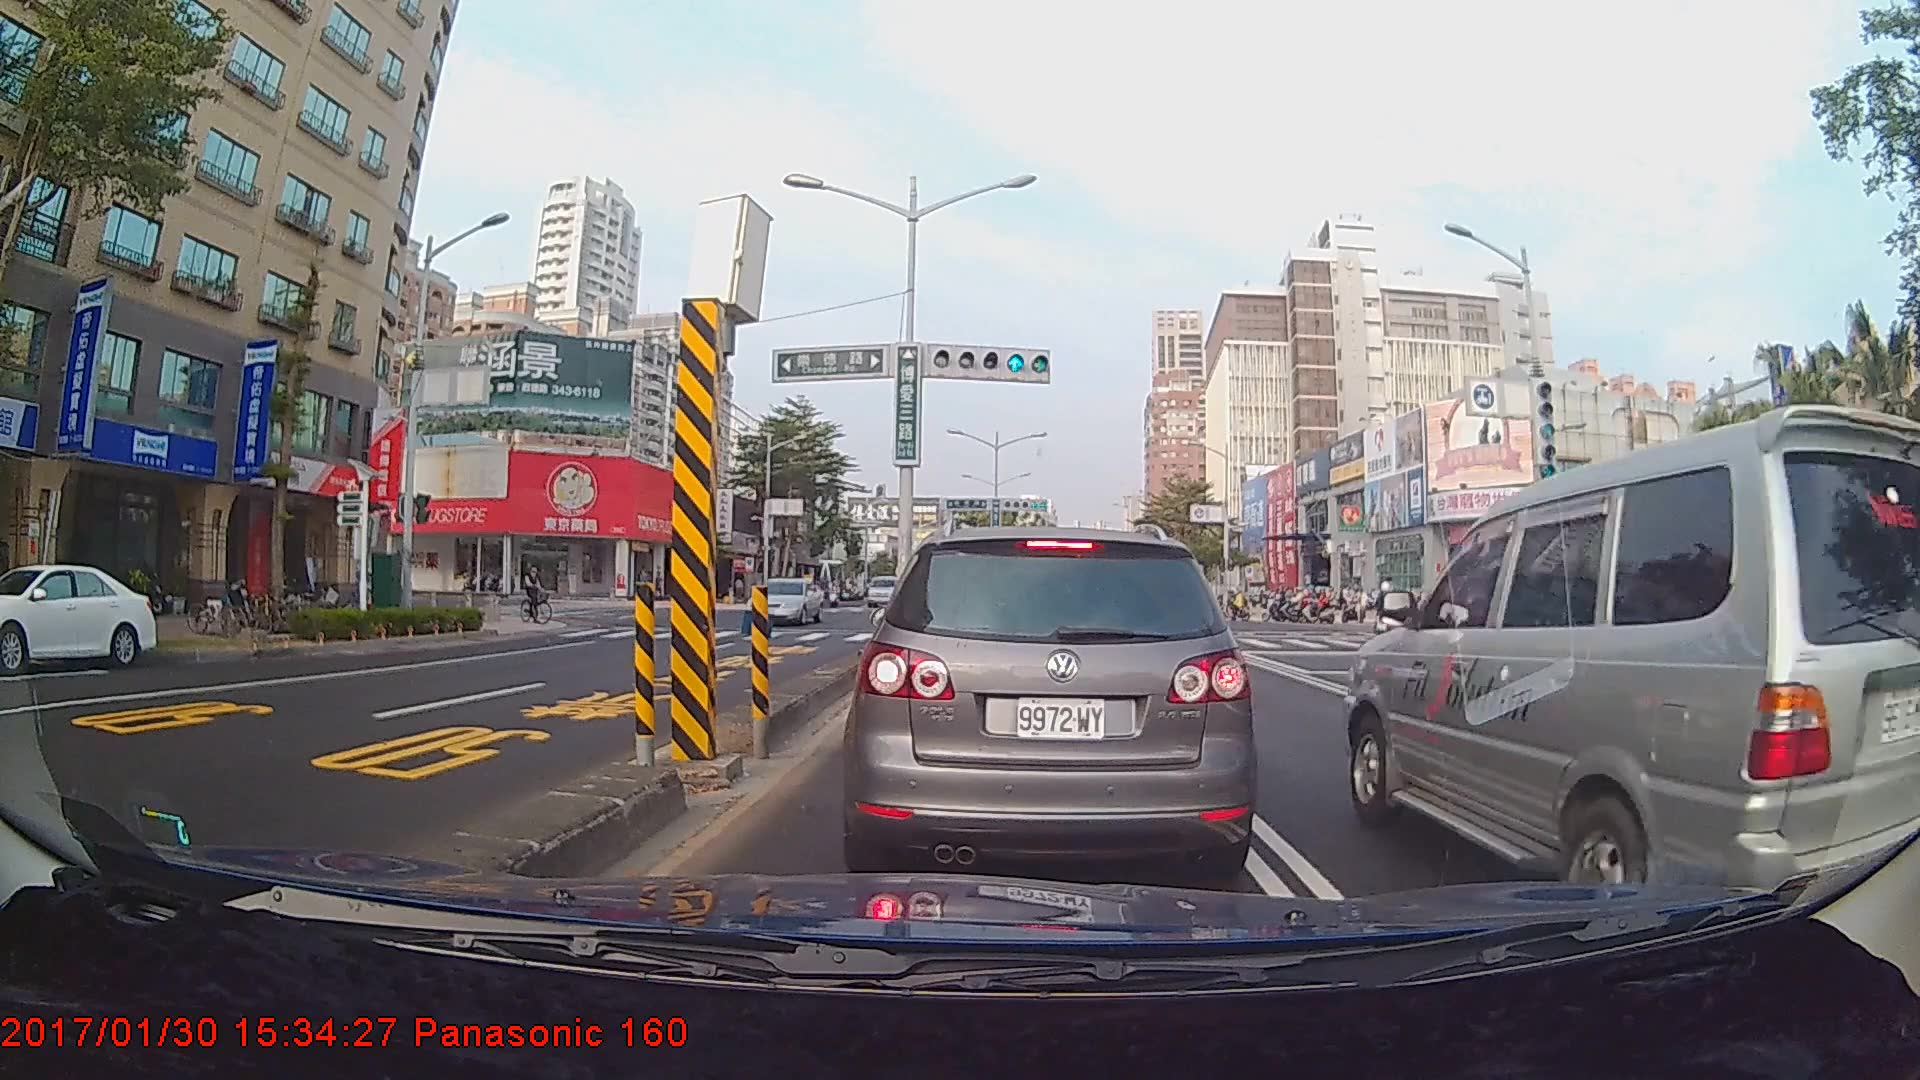rider: (518, 559, 561, 629), (1373, 584, 1398, 642)
vehicle: (1341, 396, 1920, 883), (853, 522, 1251, 874), (0, 561, 157, 671), (747, 576, 822, 625), (864, 573, 903, 606)
